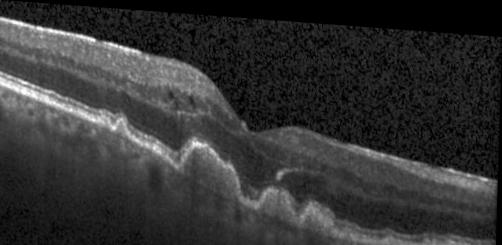intraretinal_cyst: (168, 88, 175, 98), (190, 93, 195, 104), (174, 97, 179, 107)
retinal_drusen: (185, 143, 239, 195), (260, 187, 296, 218), (304, 200, 337, 229), (422, 232, 455, 241), (115, 119, 130, 137), (342, 222, 356, 235), (97, 116, 111, 128), (385, 231, 402, 239)
